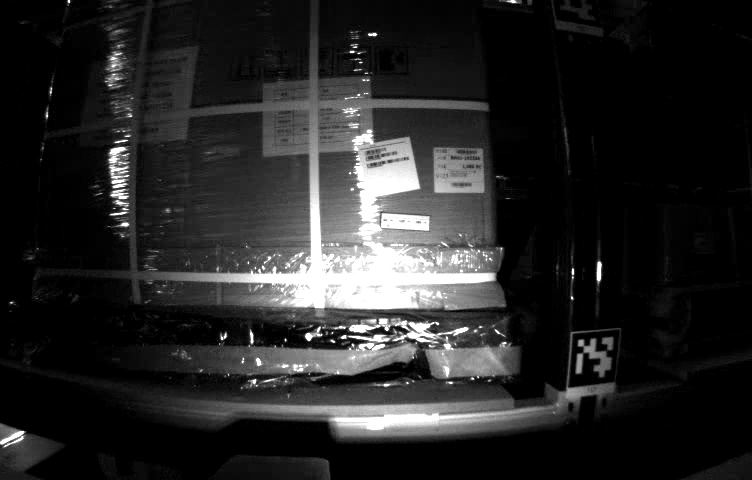True Barcode: (430, 148, 484, 192)
